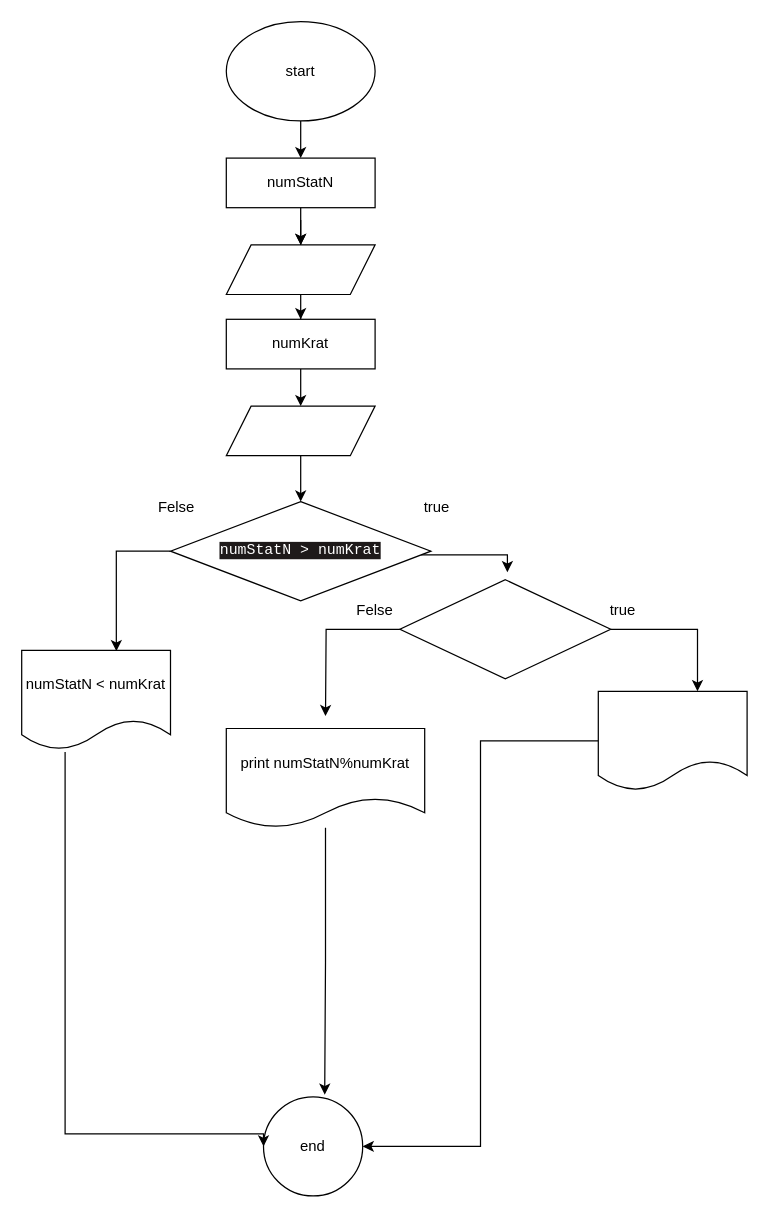
This 769x1218 diagram has some shape labels left out. Each missing label, with the centre of its shape:
"numKrft==num" belongs at point 300,430.
"numStatN%numKrat==0" belongs at point 505,628.
"numStatN==num" belongs at point 300,269.
"print kratno" belongs at point 672,740.
